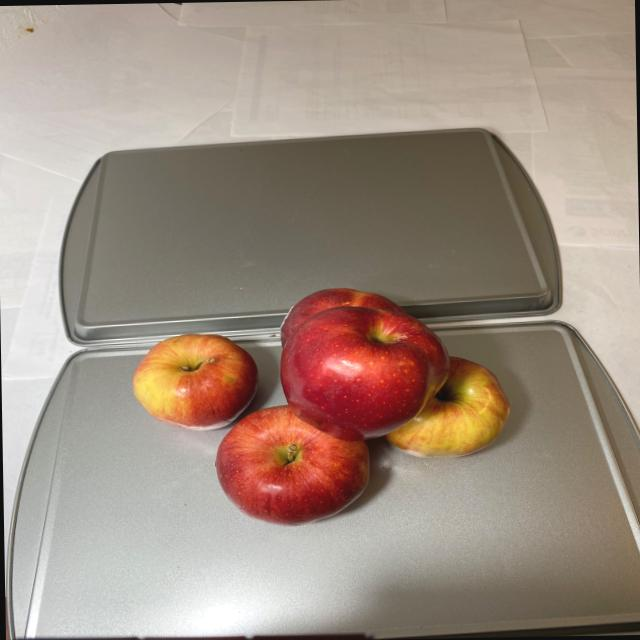apple: (120, 284, 516, 532)
